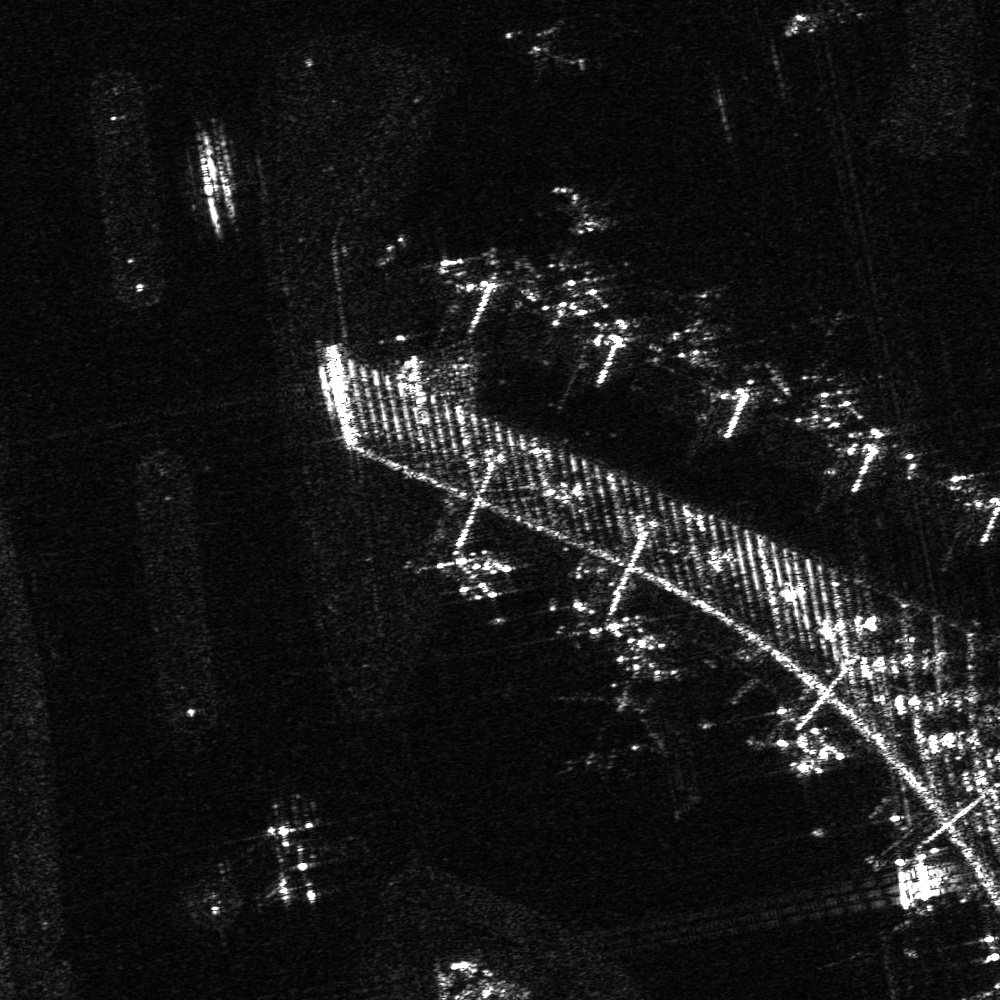Boeing787: (538, 674, 646, 776), (535, 257, 612, 335)
other: (245, 802, 342, 901), (503, 17, 588, 88)
